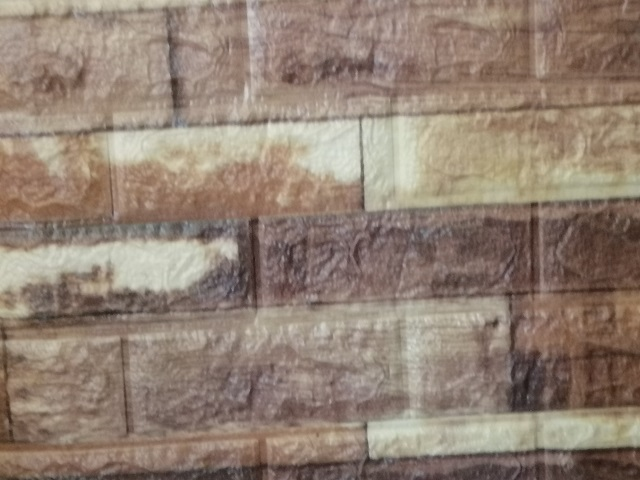wall: (6, 7, 640, 476)
